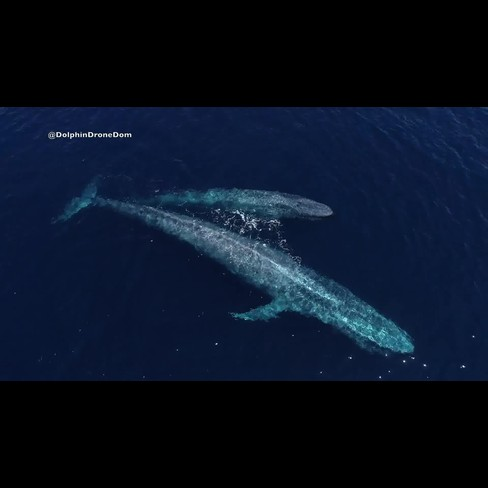bluewhale: (45, 169, 421, 362), (133, 181, 339, 239)
